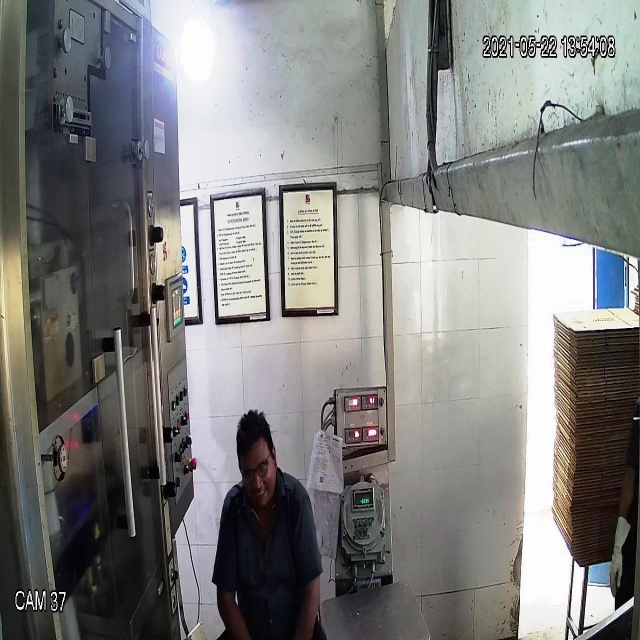Gafas: (238, 452, 275, 488)
